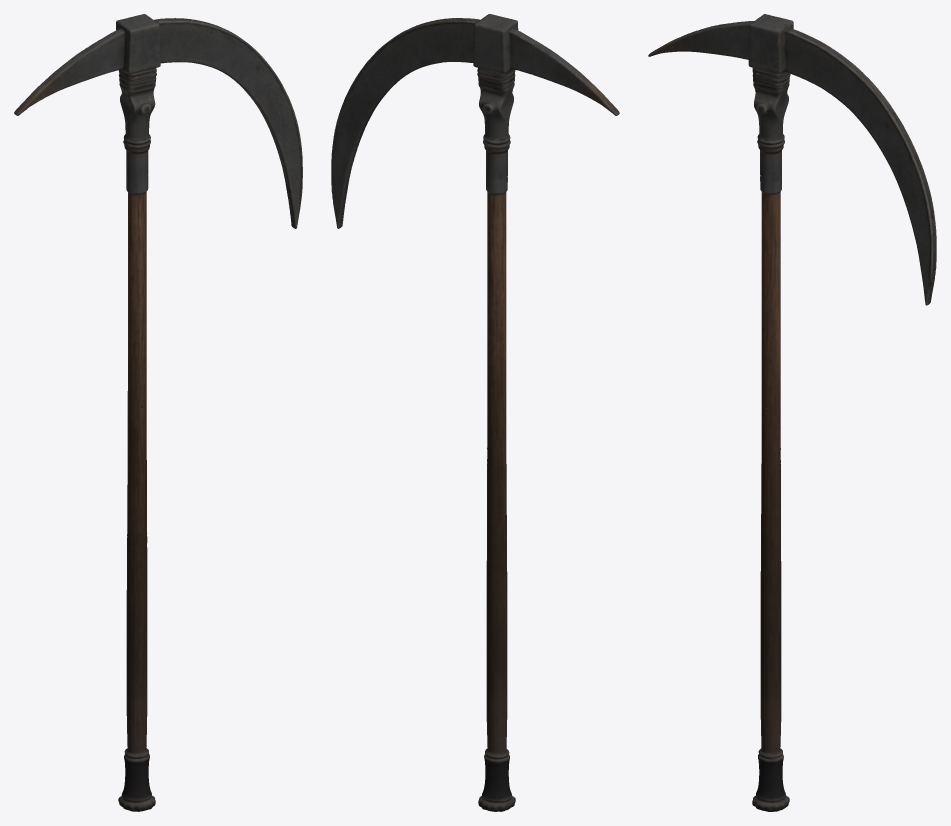
Rendered from scythe.glb.
3 views of the same model, side by side, from view 1: azimuth 30°, elevation 25°; view 2: azimuth 150°, elevation 25°; view 3: azimuth 330°, elevation 25° (orthographic).
Visible parts, largest first — view 1: world; view 2: world; view 3: world.
Boxes of the visible parts, box(x1,y1,x2,y2) form: world: box(14, 14, 302, 811); world: box(331, 14, 619, 811); world: box(648, 14, 936, 811).
Size of the model in its own units: 0.3801 by 0.9999 by 0.0464.
Materials: 1 (1 with a texture image).
